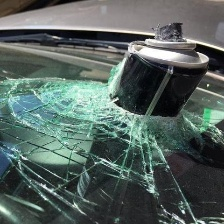aerosol_cans: (69, 16, 215, 224)
